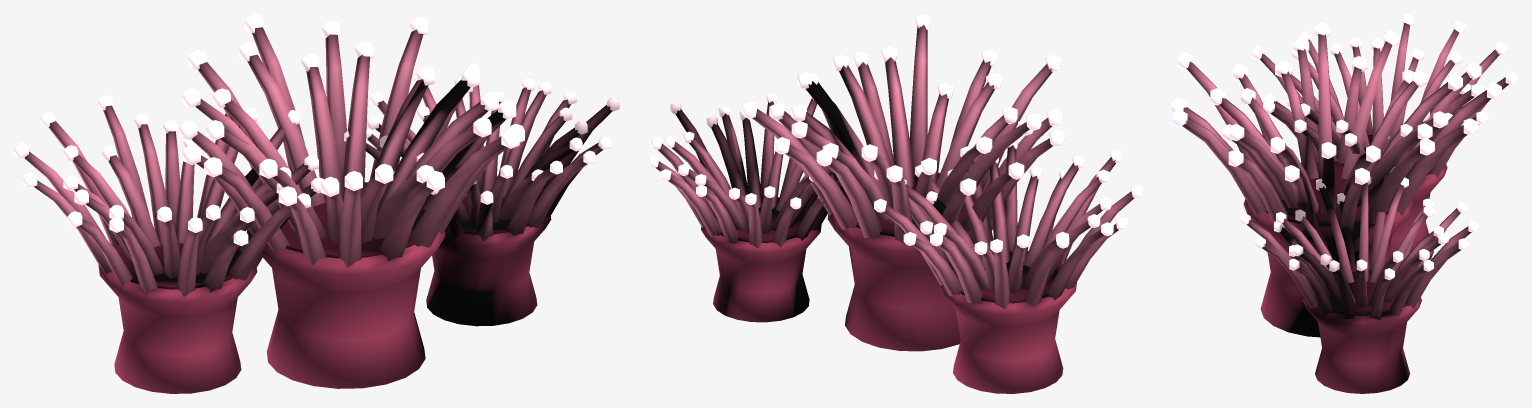
File: anemone_patch.glb
3 views of the same model, side by side, from view 1: azimuth 30°, elevation 25°; view 2: azimuth 150°, elevation 25°; view 3: azimuth 270°, elevation 25° (orthographic). The views are drawn at different scales.
Parts seen in each view (by area): view 1: anemone_patch_mesh; view 2: anemone_patch_mesh; view 3: anemone_patch_mesh.
Part boxes in pixels (<box>): anemone_patch_mesh: <box>14,14,619,393</box>; anemone_patch_mesh: <box>648,14,1142,393</box>; anemone_patch_mesh: <box>1171,14,1517,393</box>.
Bounding box in the file's own units: 1.6 × 0.7513 × 1.02.
